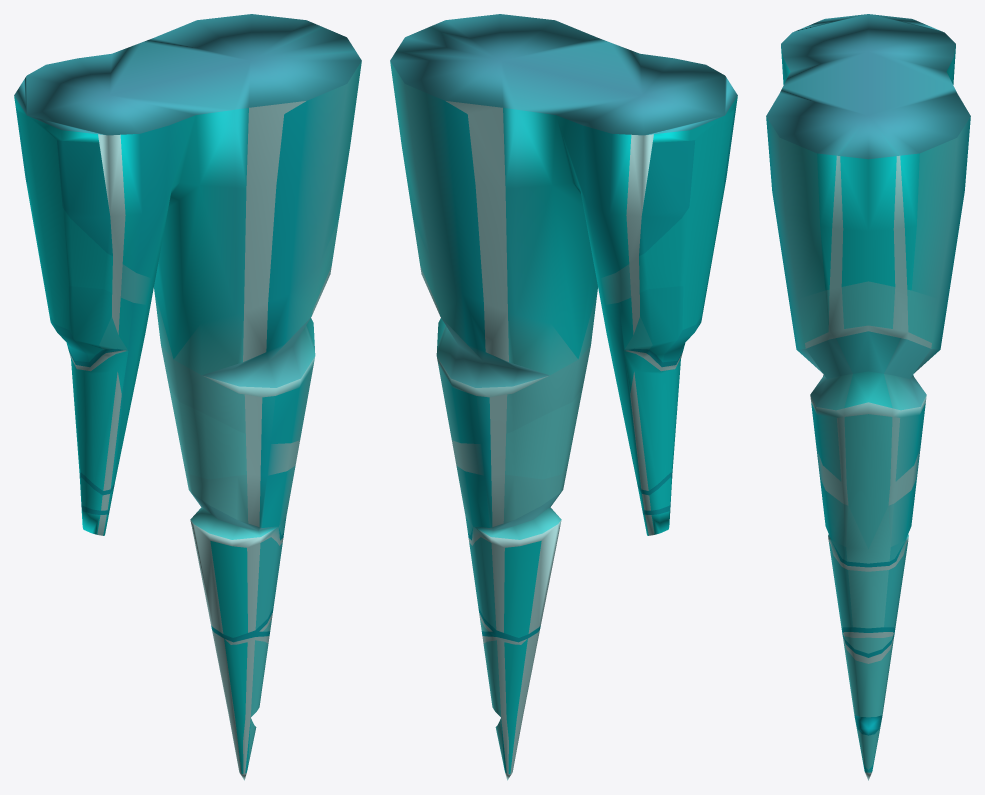
Rendered from IcicleB_2.glb.
3 renders of one model, left to right at view 1: azimuth 30°, elevation 25°; view 2: azimuth 150°, elevation 25°; view 3: azimuth 270°, elevation 25°, orthographic. The views are drawn at different scales.
Visible parts, largest first — view 1: IcicleB; view 2: IcicleB; view 3: IcicleB.
Part boxes in pixels (x1,y1,x2,y2): IcicleB: (14,14,361,780); IcicleB: (390,14,737,780); IcicleB: (766,14,970,780).
Size of the model in its own units: 1.19 by 2.55 by 0.7081.
